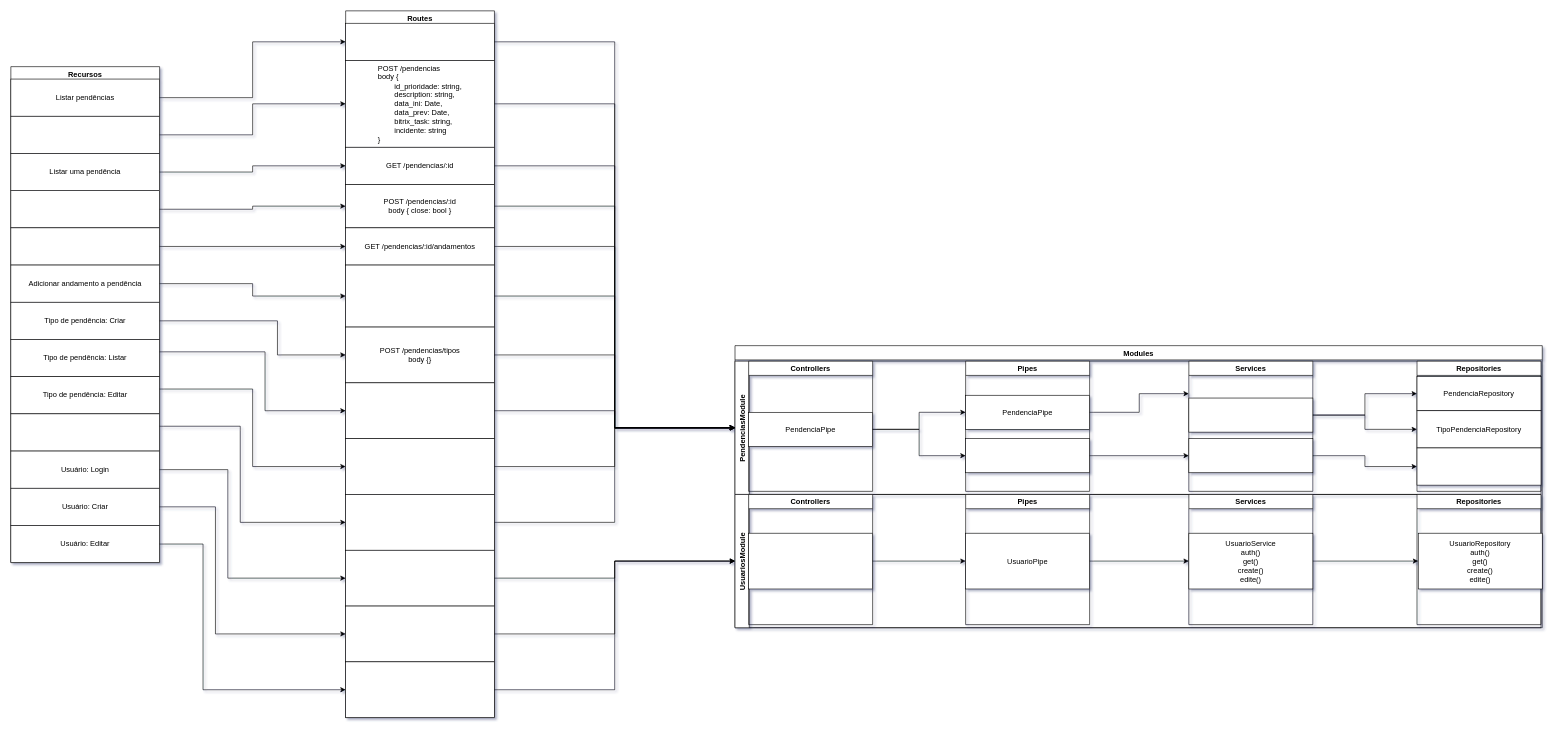
The diagram is 1557 pixels wide and 732 high, and some of its shapes have lost their labels. The shapes that lost their labels are listed below. From the top down, each one's centre as x and y in pixels, then its label:
At point (419, 41): "GET /pendencias".
At point (85, 134): "Criar pendências".
At point (85, 209): "Fechar pendências".
At point (85, 246): "Listar andamentos da pendência".
At point (419, 295): "POST /pendencias/:id/andamentos body { andamento: string }".
At point (419, 410): "GET /pendencias/tipos".
At point (1250, 414): "PendenciaService".
At point (85, 432): "Tipo de pendência: Remover".
At point (419, 466): "POST /pendencias/tipos/:id body {}".
At point (1027, 455): "AndamentoPipe".
At point (1250, 455): "AndamentoService".
At point (1478, 466): "AndamentoRepository".
At point (419, 522): "DEL /pendencias/tipos/:id".
At point (419, 578): "POST /auth body { login: string, senha: string }".
At point (810, 561): "UsuarioController".
At point (419, 633): "POST /usuarios body { nome: string, login: string, senha: string }".
At point (419, 689): "POST /usuarios/:id body { nome: string, login: string, senha: string }".
